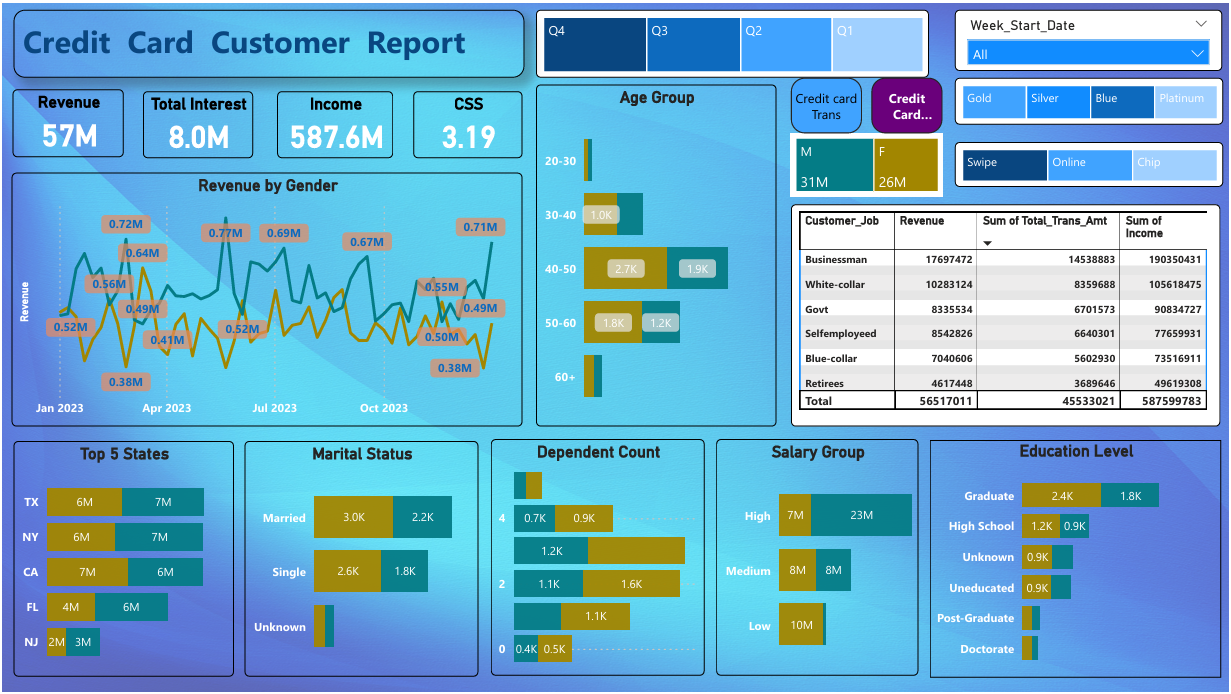

The page's visual inventory and layout, read from the dashboard file:
{"tool":"powerbi","page":{"name":"Credit Card Customer","canvas":[1280,720],"ordinal":1},"visuals":[{"type":"barChart","title":"Salary Group","fields":{"Y":["Sum(credit_card.Revenue)"],"Category":["customer.Income Group"],"Series":["customer.Gender"]},"box":[744.5,454.5,211.8,247.6],"z":0},{"type":"tableEx","fields":{"Values":["customer.Customer_Job","Sum(credit_card.Revenue)","Sum(credit_card.Total_Trans_Amt)","Sum(customer.Income)"]},"box":[822.7,210.2,448,231.3],"z":1000},{"type":"card","title":"Revenue","fields":{"Values":["Sum(credit_card.Revenue)"]},"box":[11.2,90.4,116.1,70.3],"z":2000},{"type":"card","title":"Total Interest","fields":{"Values":["Sum(credit_card.Interest_Earned)"]},"box":[147.3,91.5,114.9,70.3],"z":3000},{"type":"card","title":"Income","fields":{"Values":["Sum(customer.Income)"]},"box":[286.8,91.5,121.6,70.3],"z":4000},{"type":"card","title":"CSS","fields":{"Values":["Avg(customer.Cust_Satisfaction_Score)"]},"box":[428.5,91.5,114.9,70.3],"z":5000},{"type":"slicer","fields":{"Values":["credit_card.Week_Start_Date"]},"box":[994.3,6.7,279,64.7],"z":6000},{"type":"treemap","fields":{"Group":["credit_card.Qtr"],"Values":["Avg(credit_card.Client_Num)"]},"box":[556.7,6.7,410,71.7],"z":7000},{"type":"treemap","fields":{"Values":["Avg(credit_card.Client_Num)"],"Group":["credit_card.Use Chip"]},"box":[994.3,145.1,280.1,46.9],"z":8000},{"type":"textbox","box":[11.7,6.7,533.3,71.7],"z":9000},{"type":"lineChart","title":"Revenue by Gender","fields":{"Y":["Sum(credit_card.Revenue)"],"Series":["customer.Gender"],"Category":["credit_card.Week_Start_Date.Variation.Date Hierarchy.Year","credit_card.Week_Start_Date.Variation.Date Hierarchy.Month","credit_card.Week_Start_Date.Variation.Date Hierarchy.Day"]},"box":[10,176.7,533.3,265],"z":10000},{"type":"treemap","fields":{"Group":["customer.Gender"],"Values":["Sum(credit_card.Revenue)"]},"box":[822.7,96.1,159.7,96.1],"z":11000},{"type":"barChart","title":"Age Group","fields":{"Category":["customer.Age Group"],"Y":["CountNonNull(customer.Client_Num)"],"Series":["customer.Gender"]},"box":[556.7,85,251.7,356.7],"z":12000},{"type":"barChart","title":"Dependent Count","fields":{"Category":["customer.Dependent_Count"],"Y":["CountNonNull(customer.Client_Num)"],"Series":["customer.Gender"]},"box":[509.9,454.5,223.2,247.6],"z":13000},{"type":"barChart","title":"Top 5 States","fields":{"Category":["customer.state_cd"],"Y":["Sum(credit_card.Revenue)"],"Series":["customer.Gender"]},"box":[11.7,456.7,230,246.7],"z":14000},{"type":"barChart","title":"Marital Status","fields":{"Category":["customer.Marital_Status"],"Y":["CountNonNull(customer.Client_Num)"],"Series":["customer.Gender"]},"box":[253,457,243.7,246.4],"z":15000},{"type":"barChart","title":"Education Level","fields":{"Category":["customer.Education_Level"],"Y":["CountNonNull(customer.Client_Num)"],"Series":["customer.Gender"]},"box":[967.7,456.2,304.7,247.6],"z":16000},{"type":"treemap","fields":{"Values":["Avg(credit_card.Client_Num)"],"Group":["credit_card.Card_Category"]},"box":[994.3,78.1,280.1,49.1],"z":17000}]}

Visuals, with their boxes in screenshot pixels (x1, y1, x2, y2), scaled from the page's 1280x720 canvas onto the 1231x694 screenshot:
"Salary Group" barChart: select_region(716, 438, 920, 677)
tableEx - customer.Customer_Job x Sum(credit_card.Revenue): select_region(791, 203, 1222, 426)
"Revenue" card: select_region(11, 87, 122, 155)
"Total Interest" card: select_region(142, 88, 252, 156)
"Income" card: select_region(276, 88, 393, 156)
"CSS" card: select_region(412, 88, 523, 156)
slicer - credit_card.Week_Start_Date: select_region(956, 6, 1225, 69)
treemap - credit_card.Qtr x Avg(credit_card.Client_Num): select_region(535, 6, 930, 76)
treemap - Avg(credit_card.Client_Num) x credit_card.Use Chip: select_region(956, 140, 1226, 185)
textbox: select_region(11, 6, 524, 76)
"Revenue by Gender" lineChart: select_region(10, 170, 523, 426)
treemap - customer.Gender x Sum(credit_card.Revenue): select_region(791, 93, 945, 185)
"Age Group" barChart: select_region(535, 82, 777, 426)
"Dependent Count" barChart: select_region(490, 438, 705, 677)
"Top 5 States" barChart: select_region(11, 440, 232, 678)
"Marital Status" barChart: select_region(243, 440, 478, 678)
"Education Level" barChart: select_region(931, 440, 1224, 678)
treemap - Avg(credit_card.Client_Num) x credit_card.Card_Category: select_region(956, 75, 1226, 123)
